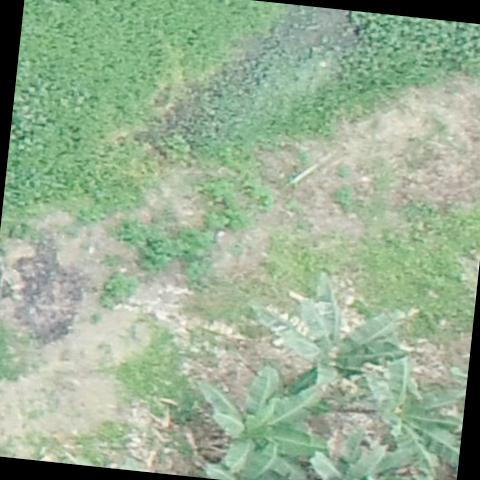Banana-plant: (243, 266, 416, 401), (185, 356, 343, 480), (337, 353, 468, 480)
